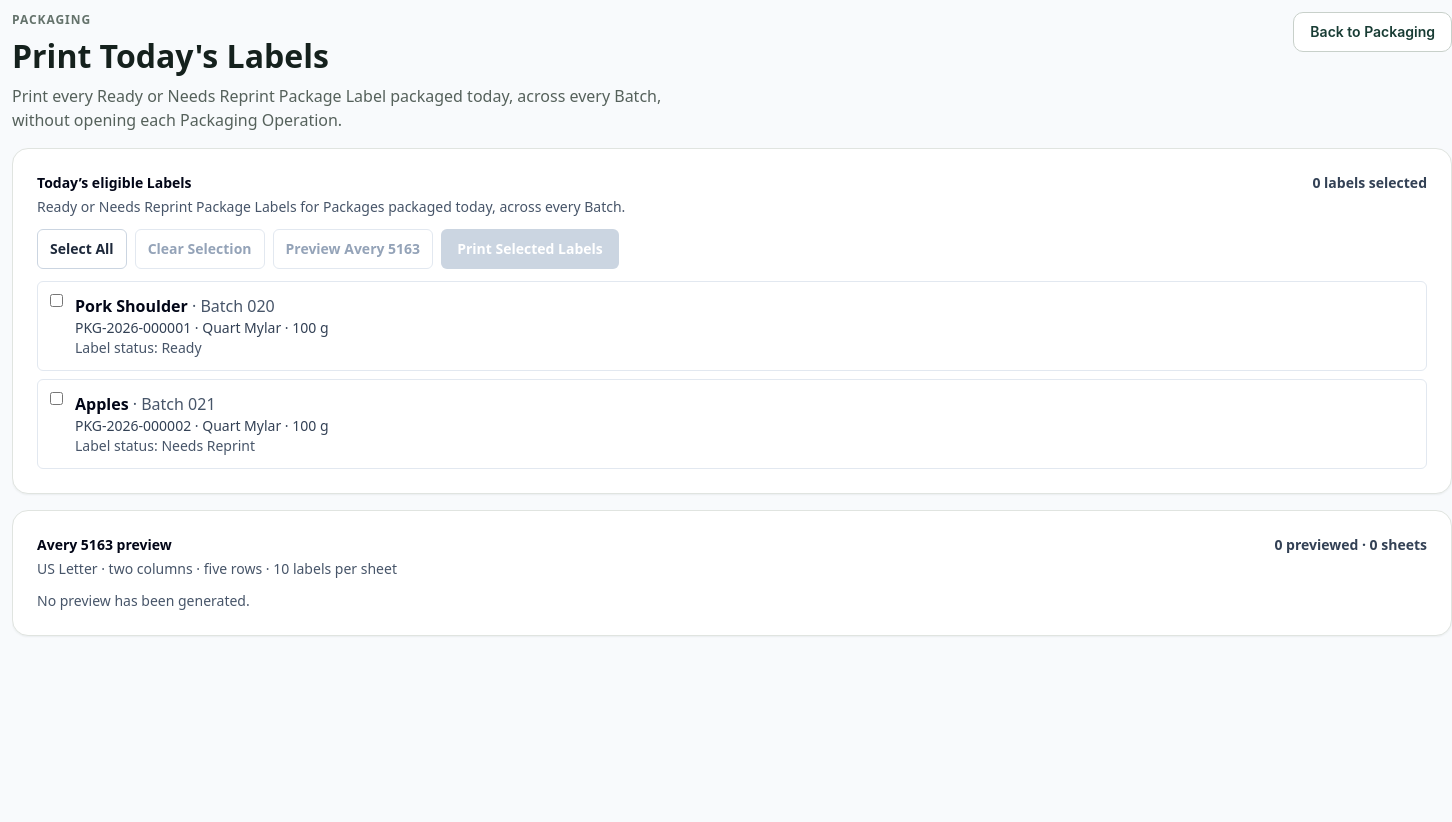
Test: PrintTodaysLabelsPage › lists eligible Package Labels across Batches, selects, and previews Avery output
Expected: the text "Pork Shoulder" is shown, left=75, top=295, right=188, bottom=317
Expected: the text "Apples" is shown, left=75, top=393, right=129, bottom=415
Click the button "Select All" at (82,249), box left=37, top=229, right=127, bottom=269
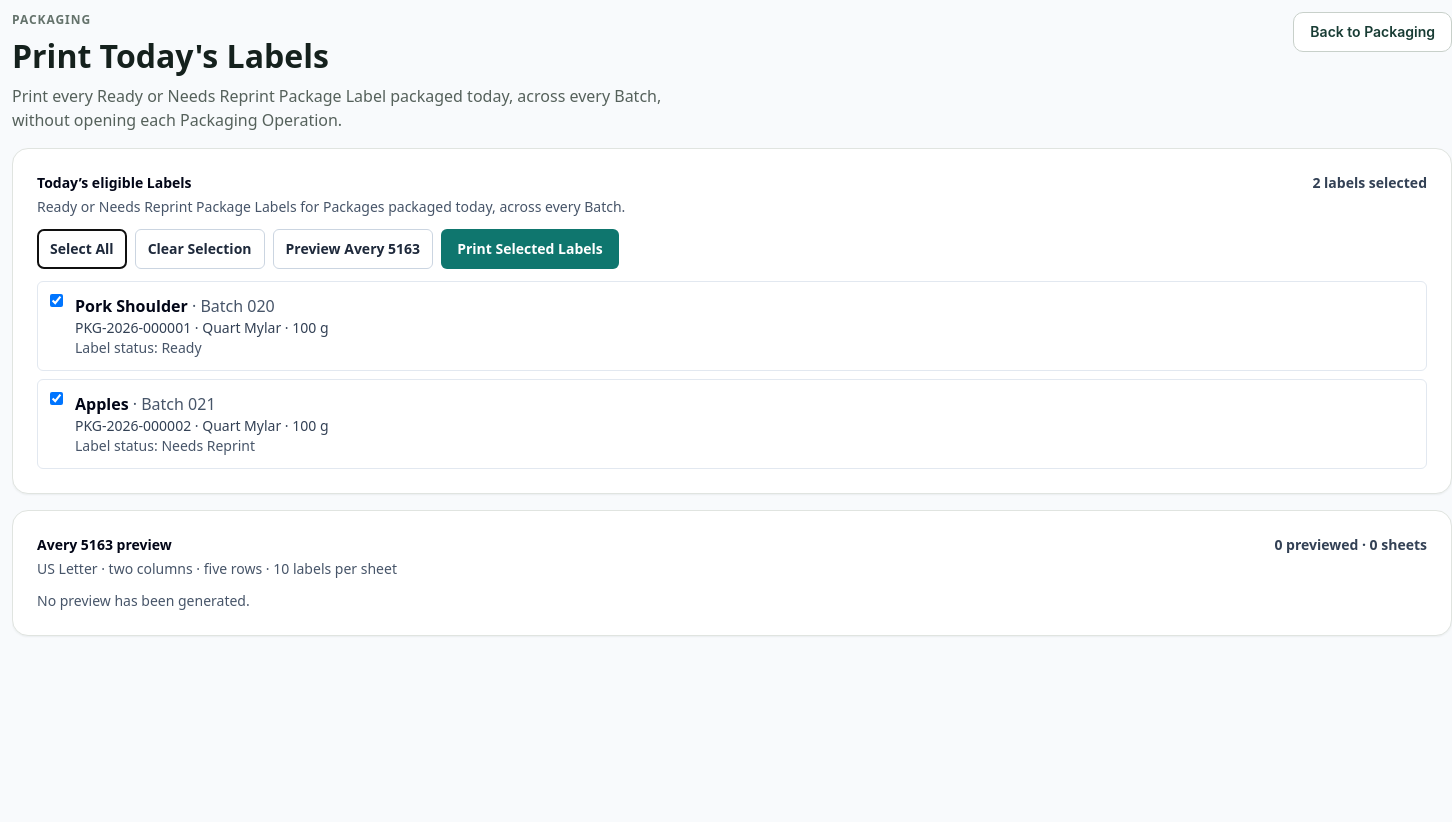
Expected: the text "2 labels selected" is shown, left=1312, top=173, right=1427, bottom=193
Click the button "Preview Avery 5163" at (353,249), box left=272, top=229, right=433, bottom=269
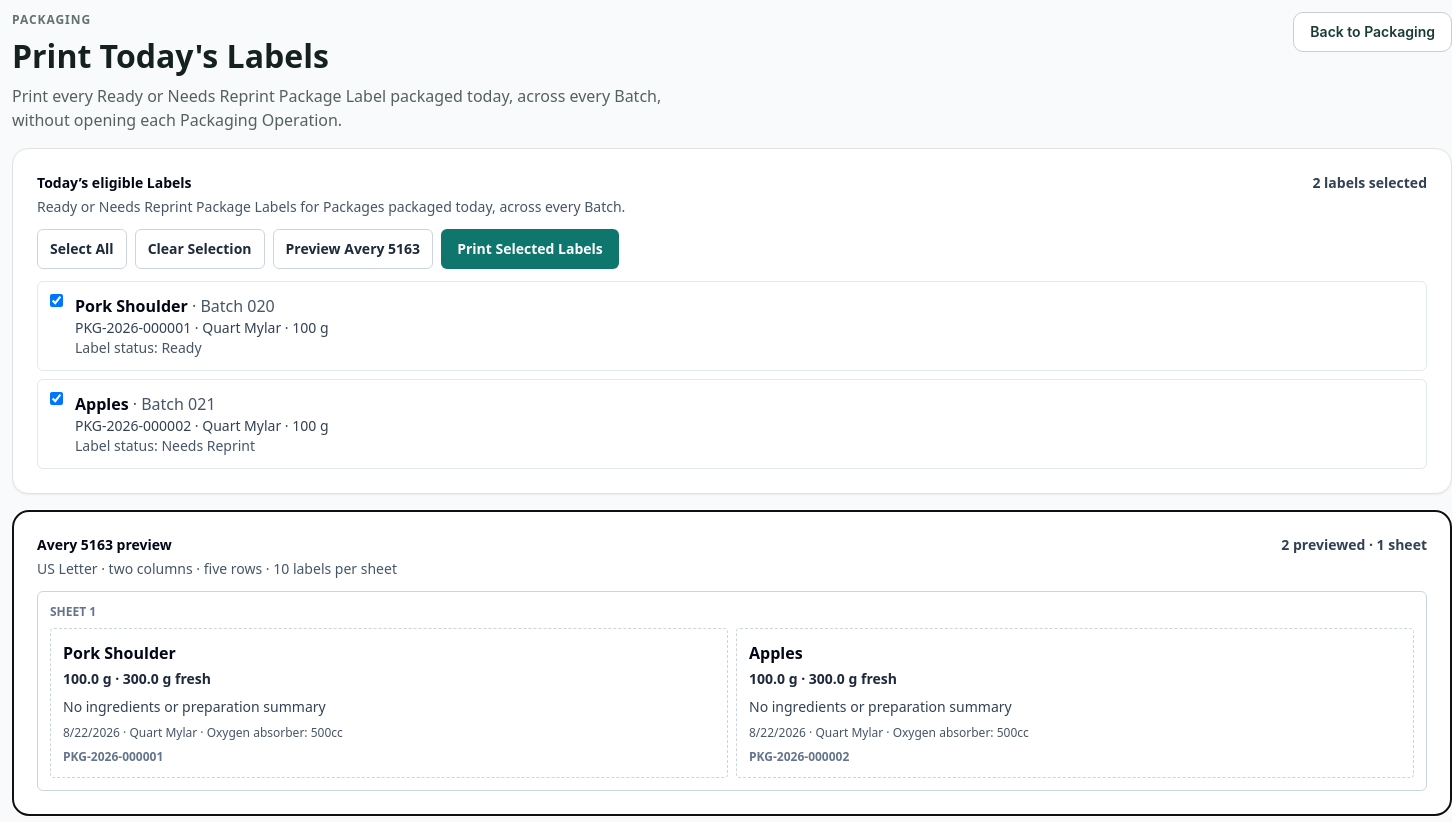
Expected: the text "Pork Shoulder" is shown, left=63, top=642, right=176, bottom=664
Expected: the text "Apples" is shown, left=749, top=642, right=803, bottom=664
Expected: the text "2 previewed · 1 sheet" is shown, left=1281, top=535, right=1427, bottom=555
Click the button "Clear Selection" at (200,249), box left=135, top=229, right=265, bottom=269
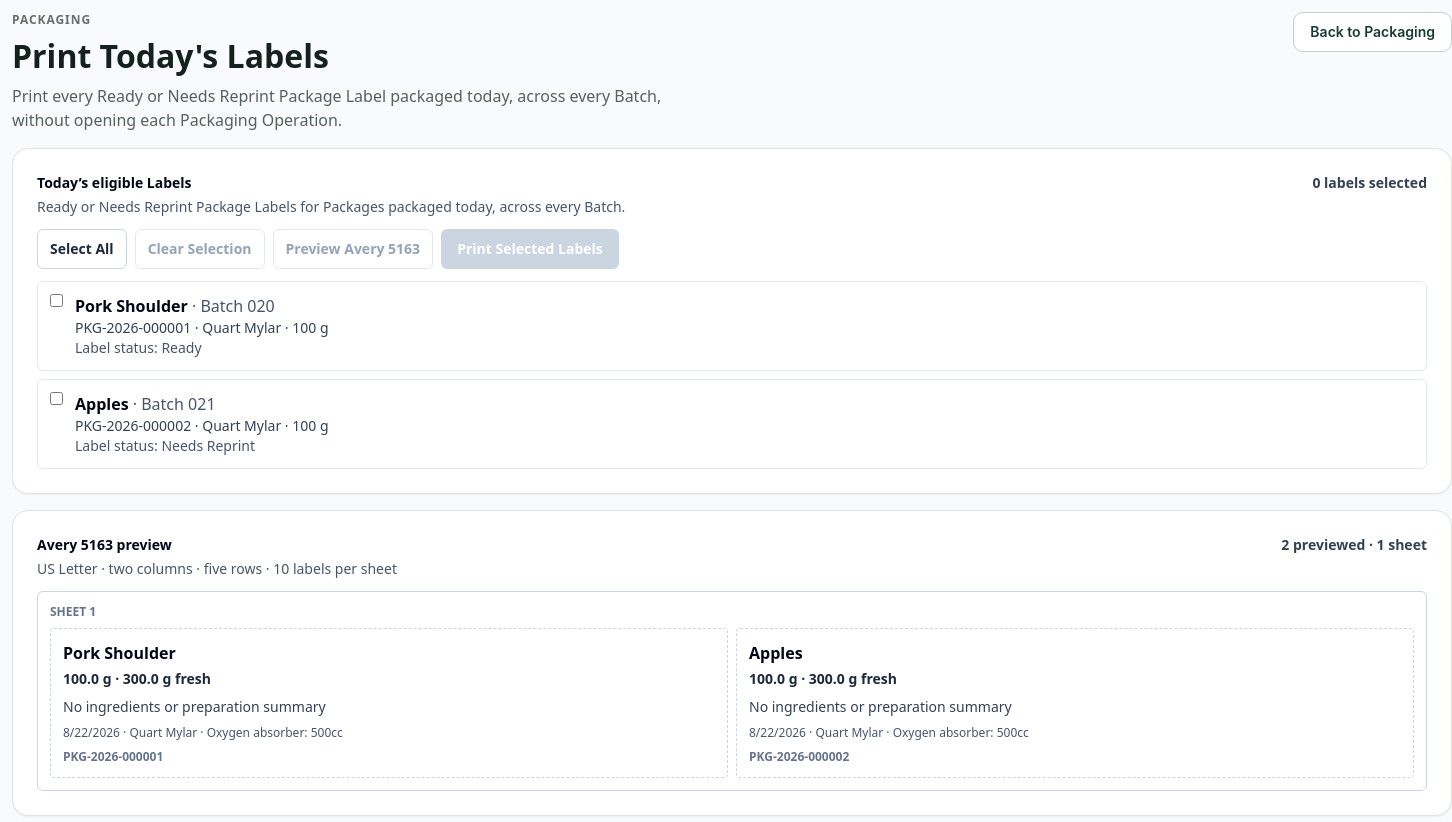
Expected: the text "0 labels selected" is shown, left=1312, top=173, right=1427, bottom=193
Click the text "Pork Shoulder" at (175,306), box left=75, top=295, right=275, bottom=317
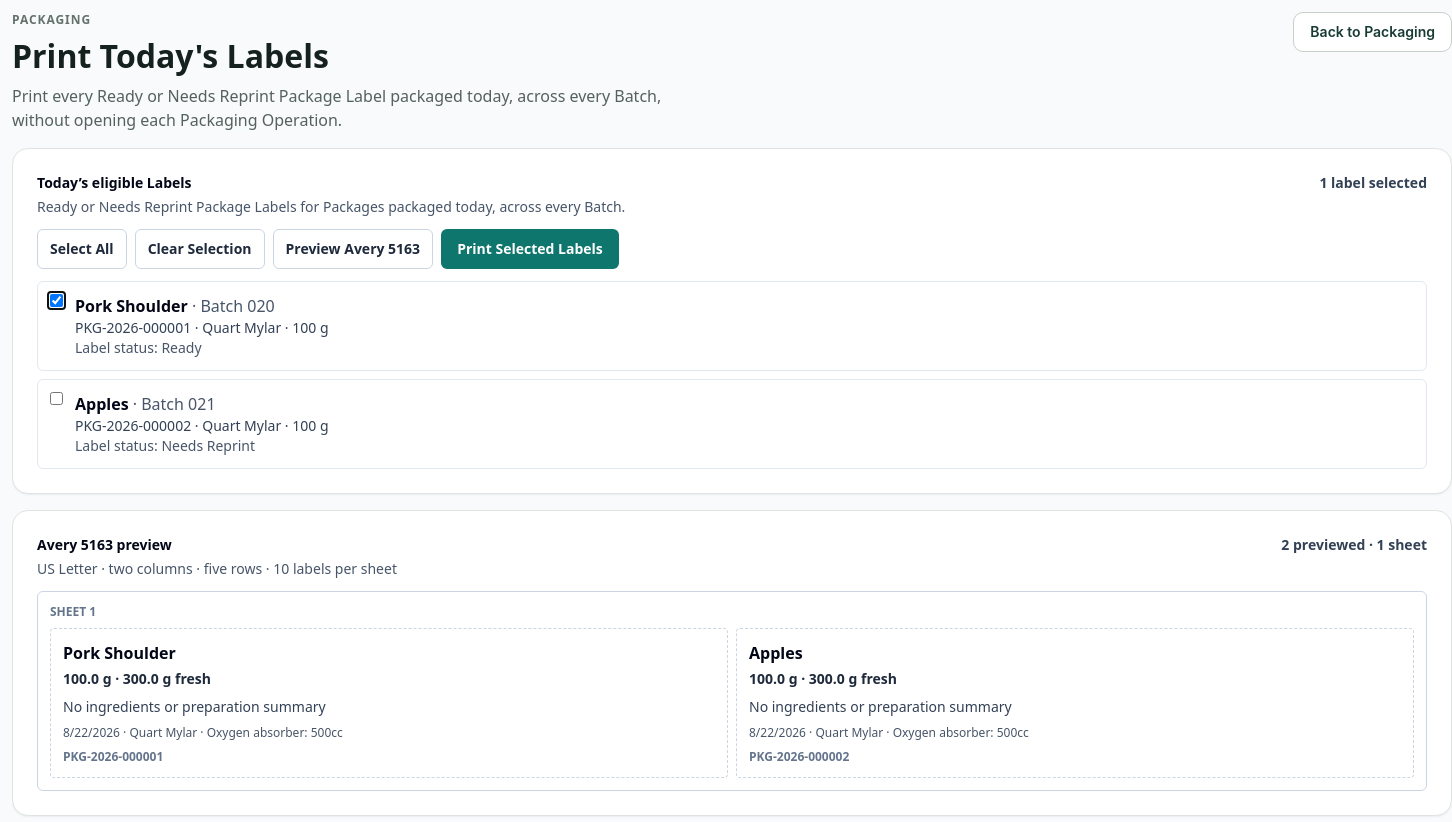
Expected: the text "1 label selected" is shown, left=1319, top=173, right=1427, bottom=193
Expected: the checkbox named "Select PKG-2026-000001 Package Label" is checked, left=50, top=294, right=63, bottom=307
